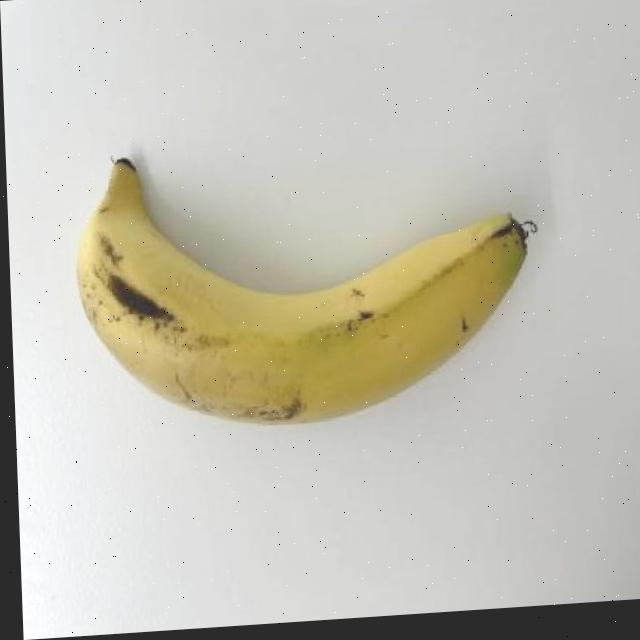banana: (63, 120, 548, 452)
